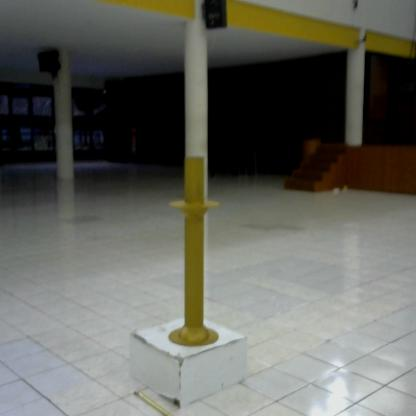pole: (166, 150, 226, 353)
